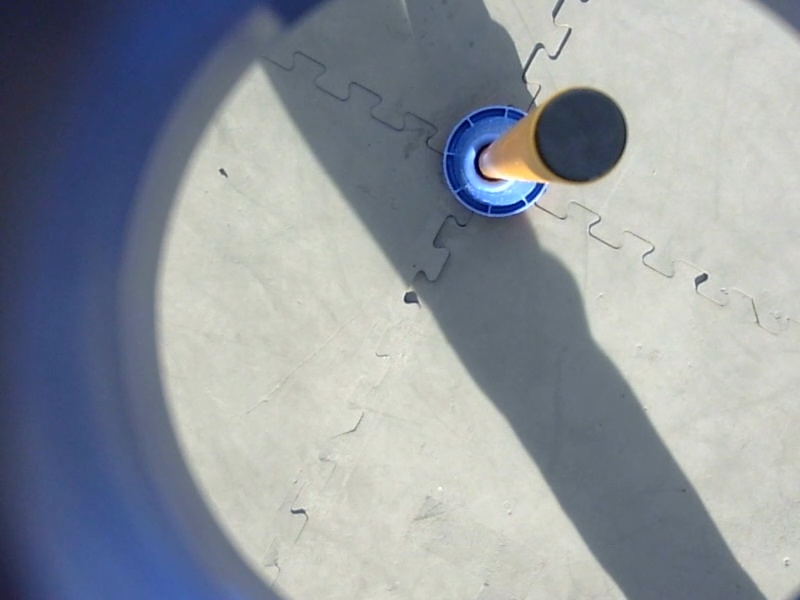tip: (525, 82, 635, 193)
